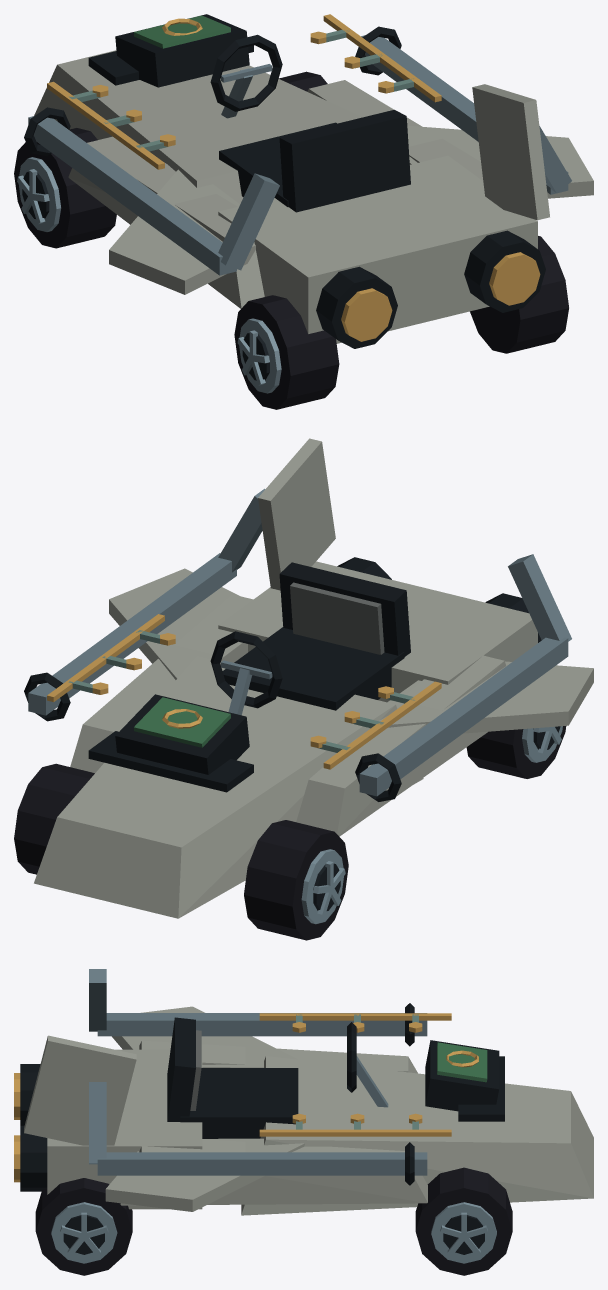
Rendered from kart.glb.
The picture shows the model from 3 angles, top to bottom: view 1: azimuth 30°, elevation 25°; view 2: azimuth 150°, elevation 25°; view 3: azimuth 270°, elevation 25°; orthographic projection. The views are drawn at different scales.
Visible parts, largest first — view 1: identity-shuttle-shuttle-flight-planform, identity-shuttle-driver-cockpit, identity-shuttle-motif-pipes, wheel-rear-left, wheel-front-left, identity-shuttle-motif-scanner, wheel-rear-right, identity-shuttle-motif-circuit, wheel-front-right; view 2: identity-shuttle-shuttle-flight-planform, identity-shuttle-driver-cockpit, identity-shuttle-motif-pipes, wheel-front-left, identity-shuttle-motif-scanner, identity-shuttle-motif-circuit, wheel-front-right, wheel-rear-left; view 3: identity-shuttle-shuttle-flight-planform, identity-shuttle-motif-pipes, identity-shuttle-driver-cockpit, wheel-front-right, wheel-rear-right, identity-shuttle-motif-scanner, identity-shuttle-motif-circuit.
Part boxes in pixels (bbox=[...]): identity-shuttle-shuttle-flight-planform: bbox=[34, 45, 593, 348]; identity-shuttle-driver-cockpit: bbox=[210, 34, 410, 212]; identity-shuttle-motif-pipes: bbox=[24, 26, 571, 275]; wheel-rear-left: bbox=[234, 295, 339, 409]; wheel-front-left: bbox=[14, 128, 116, 248]; identity-shuttle-motif-scanner: bbox=[115, 14, 249, 87]; wheel-rear-right: bbox=[470, 236, 568, 353]; identity-shuttle-motif-circuit: bbox=[47, 14, 441, 169]; wheel-front-right: bbox=[278, 71, 327, 91]; identity-shuttle-shuttle-flight-planform: bbox=[34, 438, 593, 918]; identity-shuttle-driver-cockpit: bbox=[210, 562, 410, 715]; identity-shuttle-motif-pipes: bbox=[24, 488, 571, 801]; wheel-front-left: bbox=[244, 820, 348, 940]; identity-shuttle-motif-scanner: bbox=[115, 694, 249, 774]; identity-shuttle-motif-circuit: bbox=[47, 614, 441, 769]; wheel-front-right: bbox=[14, 763, 94, 874]; wheel-rear-left: bbox=[466, 726, 566, 778]; identity-shuttle-shuttle-flight-planform: bbox=[14, 1006, 593, 1215]; identity-shuttle-motif-pipes: bbox=[89, 969, 427, 1185]; identity-shuttle-driver-cockpit: bbox=[167, 1017, 388, 1138]; wheel-front-right: bbox=[415, 1167, 512, 1275]; wheel-rear-right: bbox=[35, 1178, 132, 1275]; identity-shuttle-motif-scanner: bbox=[425, 1040, 499, 1111]; identity-shuttle-motif-circuit: bbox=[259, 1013, 451, 1136].
Size of the model in its own units: 2.36 by 1.28 by 2.99.
